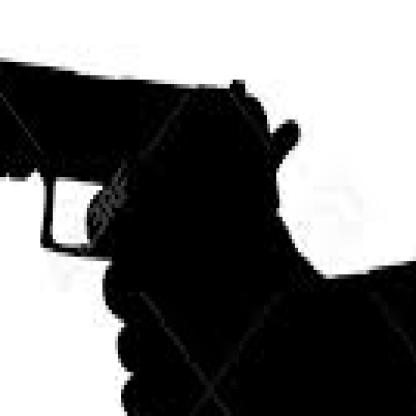gun: (0, 13, 304, 412)
